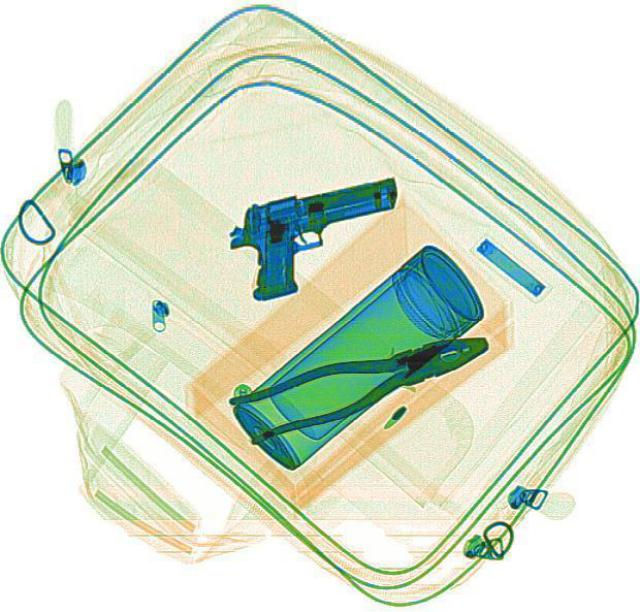Gun: (216, 171, 420, 302)
Pliers: (225, 315, 499, 444)
